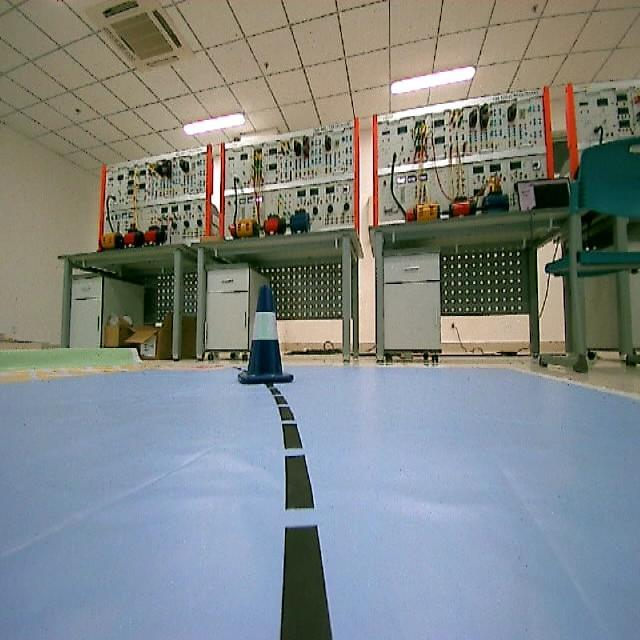obstacle: (236, 280, 302, 388)
